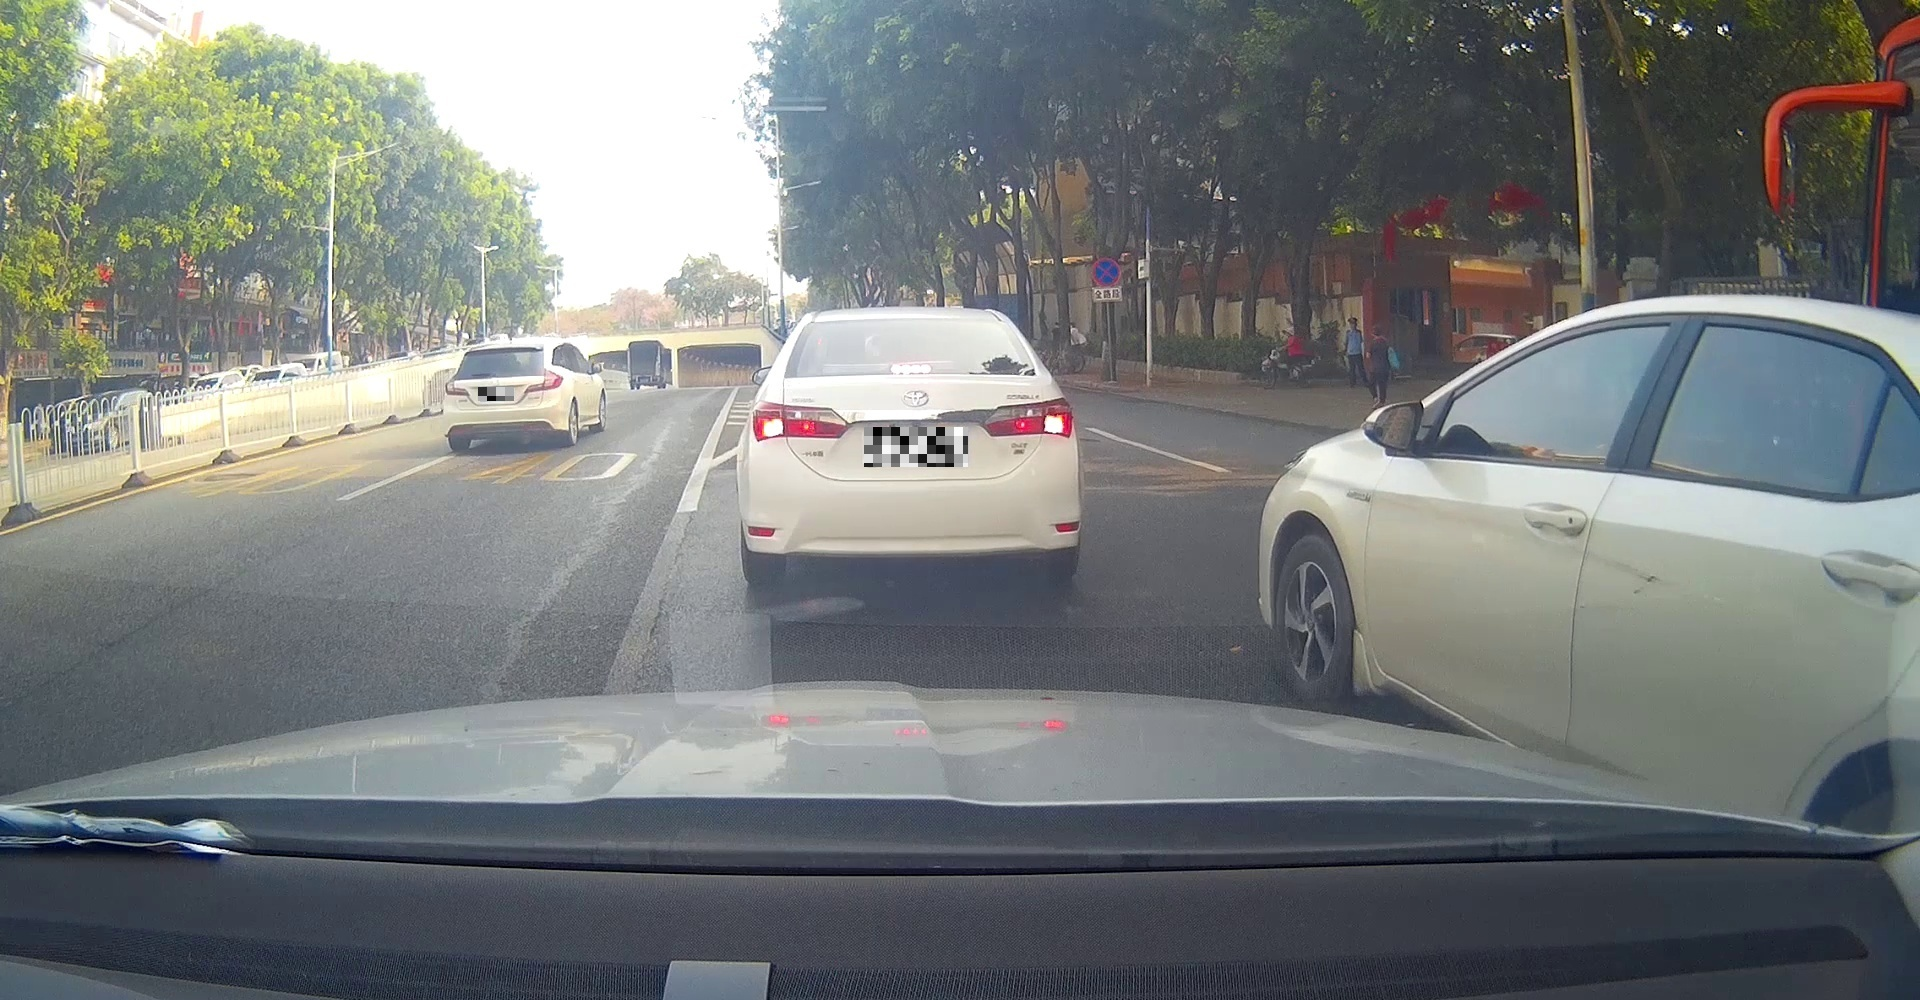L_light: (749, 400, 851, 443), (444, 379, 470, 396)
R_light: (982, 397, 1073, 439), (524, 369, 564, 392)
T_light: (890, 364, 932, 374), (491, 346, 519, 352)
day-brake: (735, 305, 1084, 582)
day-no: (441, 336, 568, 451)
plate_1: (477, 387, 514, 401)
plate_2: (863, 426, 968, 467)
